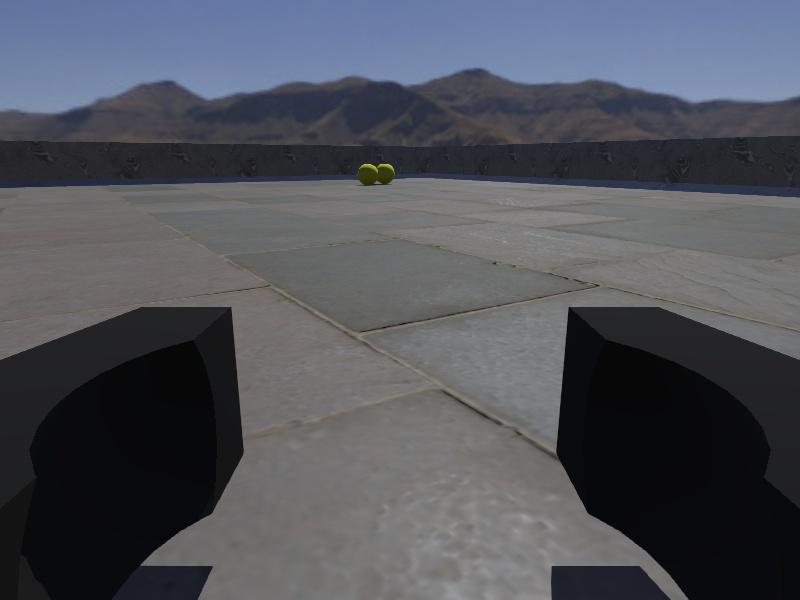yellow ball: (357, 163, 378, 185)
